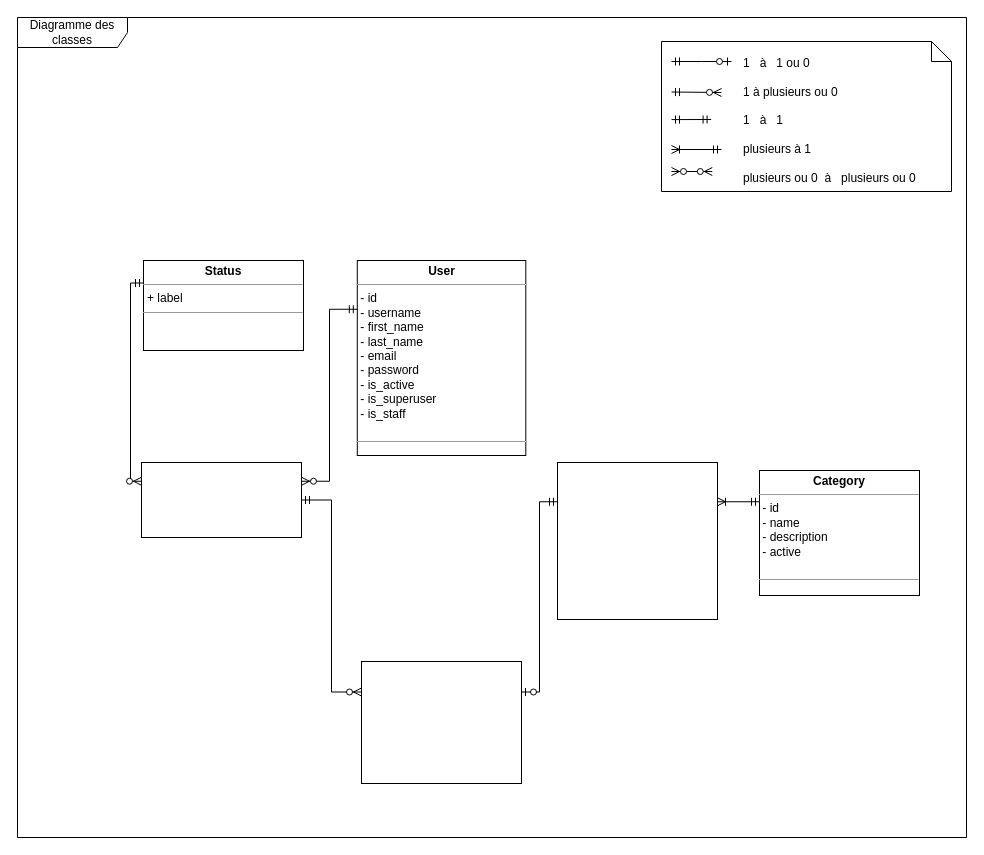
Image size: 984x855. Some labels were removed from this diagram. Each missing label, with the box of its shape:
Order - id: (140, 462, 302, 538)
OrderedProduct - id - name - description - active: (360, 660, 522, 784)
Product - id - name - description - active - image_url - price - currency: (556, 462, 718, 620)
